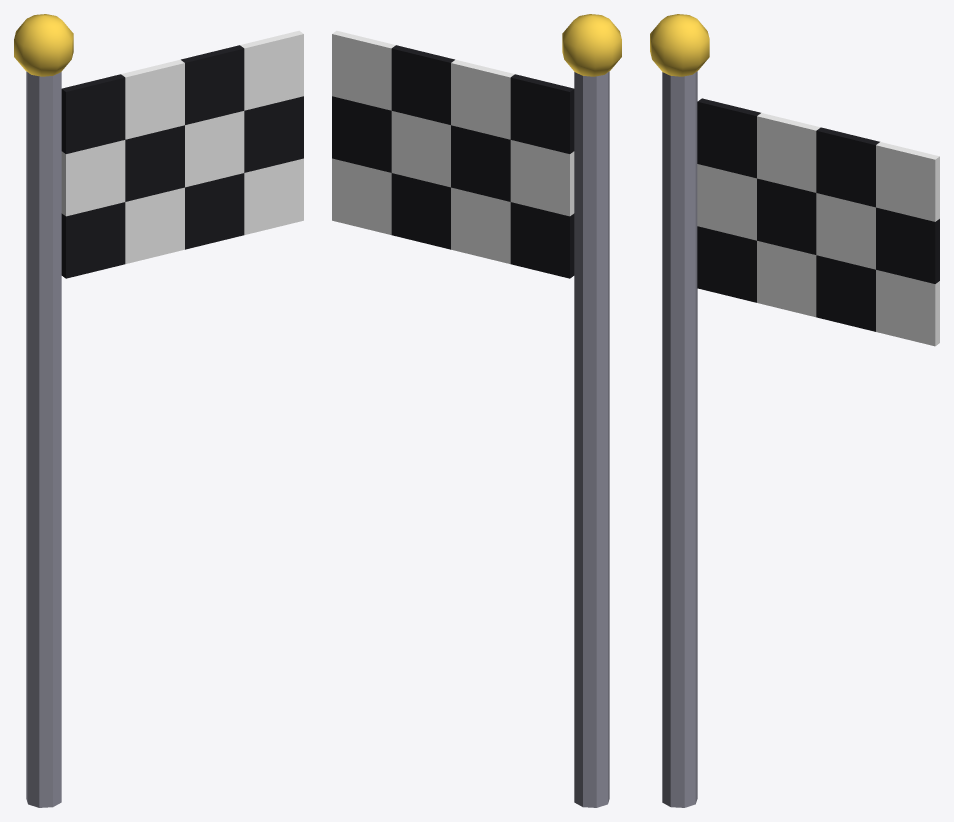
The model's file is Prop_Common_Flag.fbx.
The picture shows the model from 3 angles, left to right: view 1: azimuth 30°, elevation 25°; view 2: azimuth 150°, elevation 25°; view 3: azimuth 330°, elevation 25°; orthographic projection.
Visible parts, largest first — view 1: Prop_Common_Flag; view 2: Prop_Common_Flag; view 3: Prop_Common_Flag.
Boxes of the visible parts, box(x1,y1,x2,y2) form: Prop_Common_Flag: box(14, 14, 303, 807); Prop_Common_Flag: box(332, 14, 621, 807); Prop_Common_Flag: box(650, 14, 939, 807).
Size of the model in its own units: 0.7133 by 1.89 by 0.1331.
